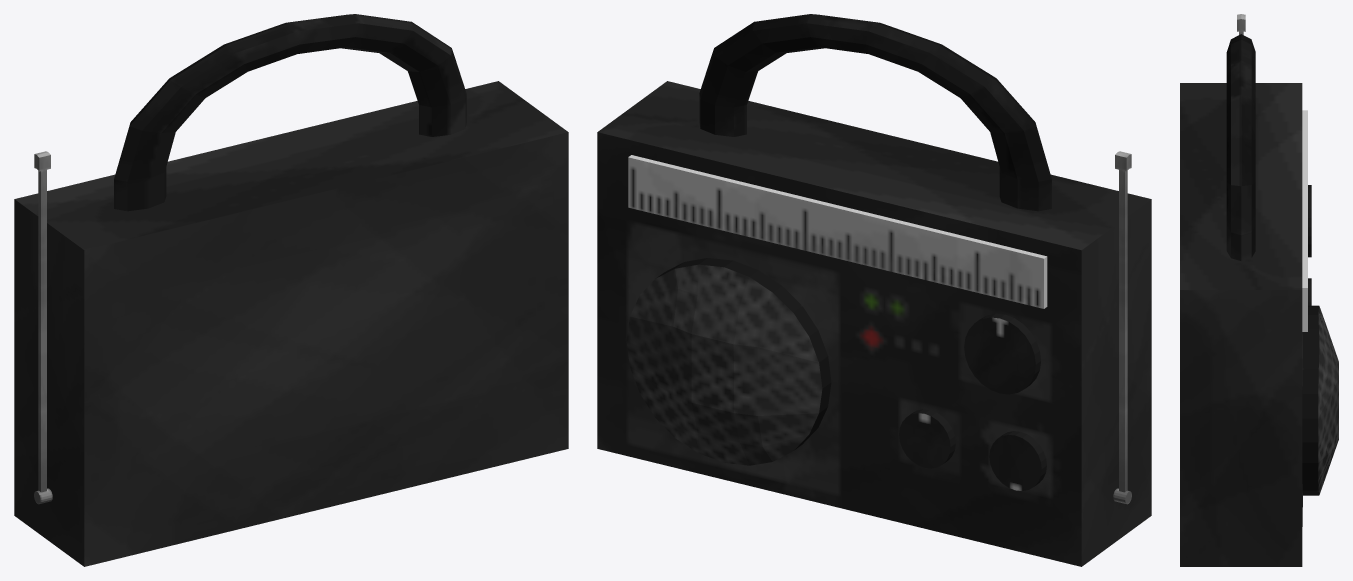
The model's file is Radio.obj.
3 views of the same model, side by side, from view 1: azimuth 30°, elevation 25°; view 2: azimuth 150°, elevation 25°; view 3: azimuth 270°, elevation 25° (orthographic). The views are drawn at different scales.
Visible parts, largest first — view 1: Radio; view 2: Radio; view 3: Radio.
Part boxes in pixels (x1,y1,x2,y2): Radio: (14,14,568,566); Radio: (597,14,1151,566); Radio: (1180,14,1338,566).
Bounding box in the file's own units: 16.55 × 14.64 × 5.23.
